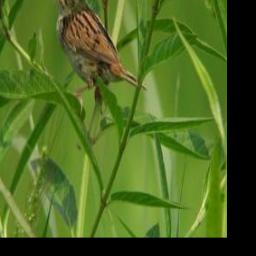Sparrow: (43, 0, 150, 121)
